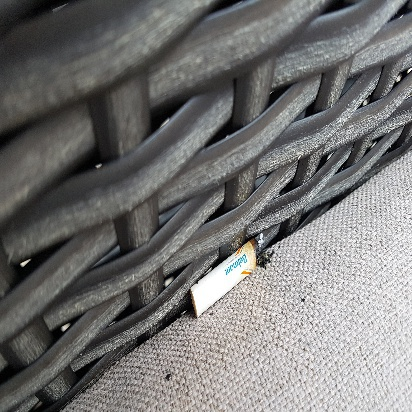cigarette: (186, 235, 262, 321)
